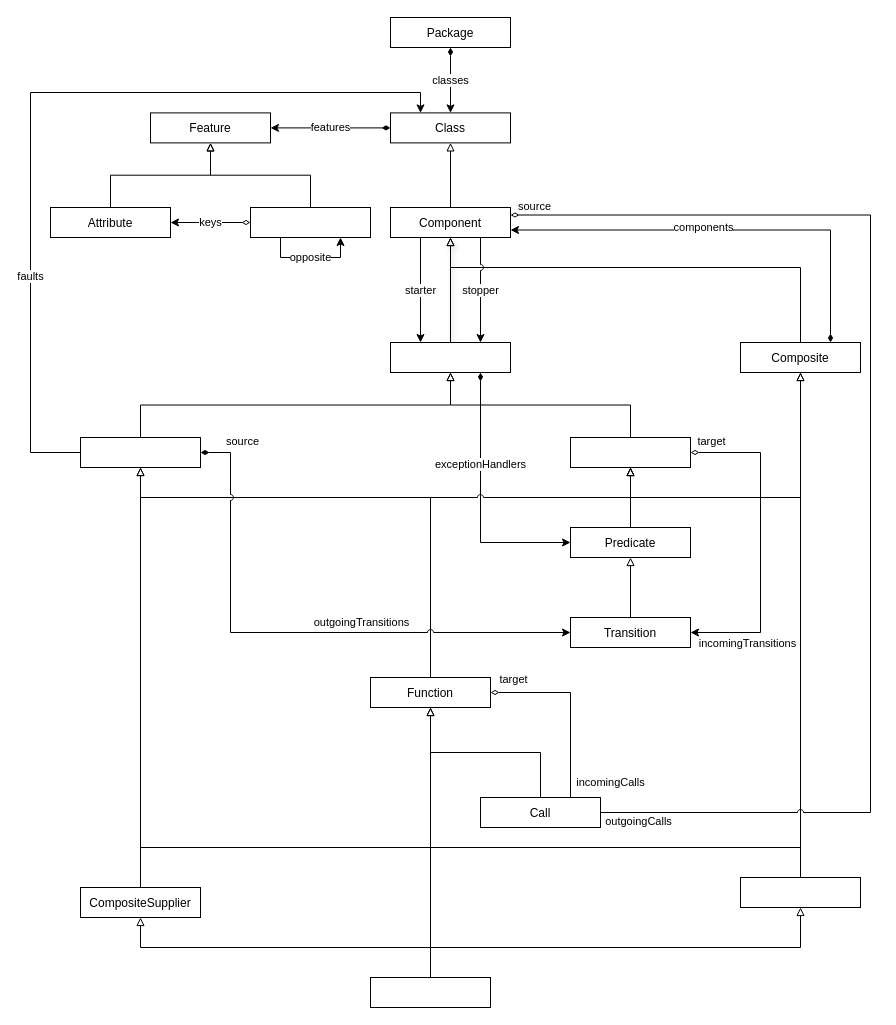
Image size: 896x1025. Some labels were removed from this diagram. The shapes that lost their labels are listed below. From the top down, each one's centre as x and y in pixels, then its label:
At [310,222]: "Reference".
At [450,357]: "Operator".
At [140,452]: "Supplier".
At [630,452]: "Consumer".
At [800,892]: "CompositeConsumer".
At [430,992]: "CompositeFunction".
